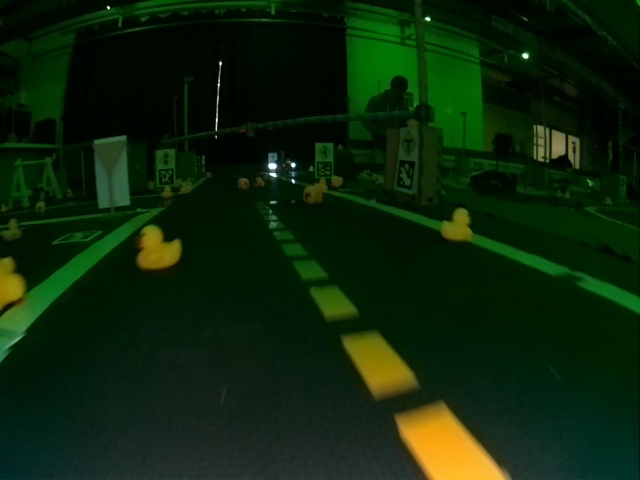Duckie: (135, 226, 182, 268), (1, 259, 25, 304), (441, 209, 472, 242), (303, 187, 322, 203), (238, 178, 249, 189)
Intersection sign: (399, 130, 419, 155), (317, 144, 333, 159)
QR code: (396, 159, 417, 190), (53, 230, 98, 242), (158, 168, 174, 185), (319, 160, 333, 178)
Signal sign: (159, 150, 173, 166)
